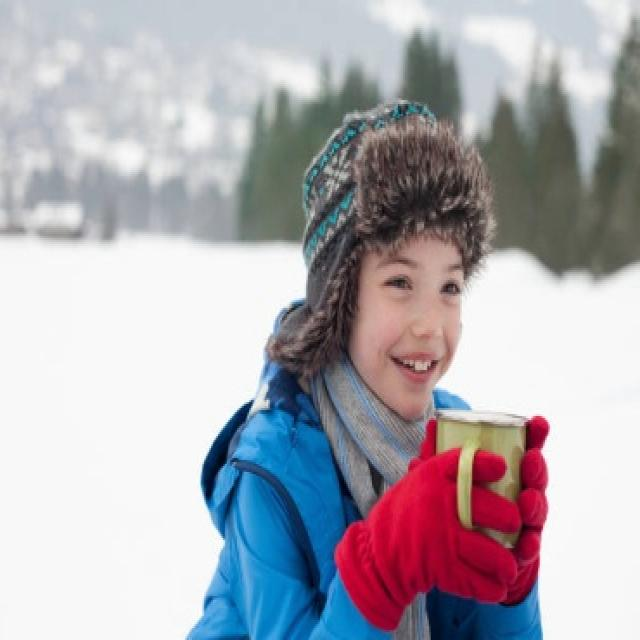child: (173, 100, 562, 640)
